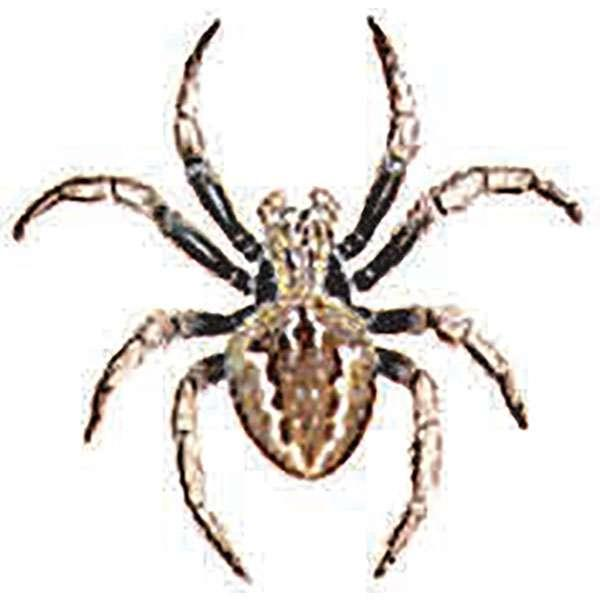Garden Orb Weaver Spider: (41, 35, 552, 562)
